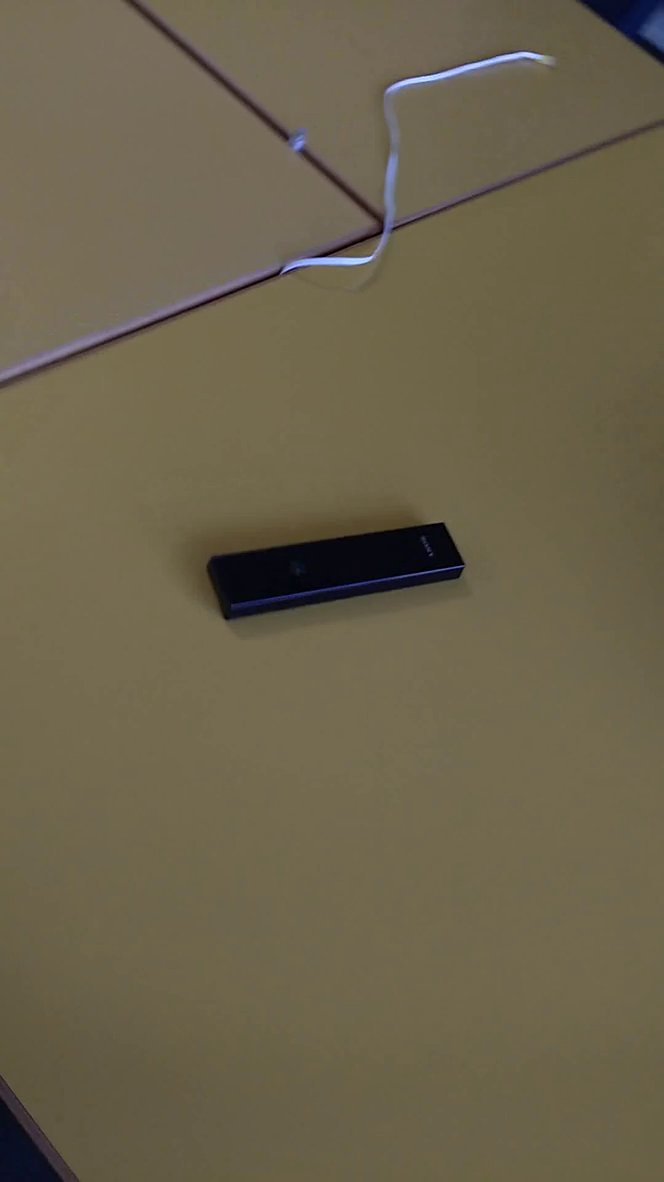remote: (188, 500, 474, 642)
